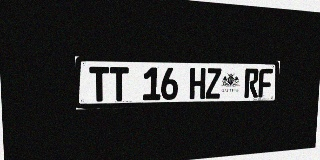1: (143, 67, 161, 100)
6: (161, 67, 178, 100)
F: (258, 69, 273, 97)
H: (189, 68, 206, 99)
R: (244, 68, 259, 98)
T: (89, 67, 109, 102), (110, 67, 128, 101)
Z: (205, 68, 221, 99)
